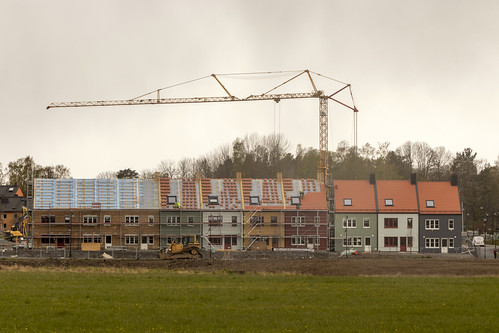building: (30, 177, 466, 259)
crane: (42, 67, 347, 165)
grass: (3, 265, 499, 333)
sky: (1, 1, 497, 164)
